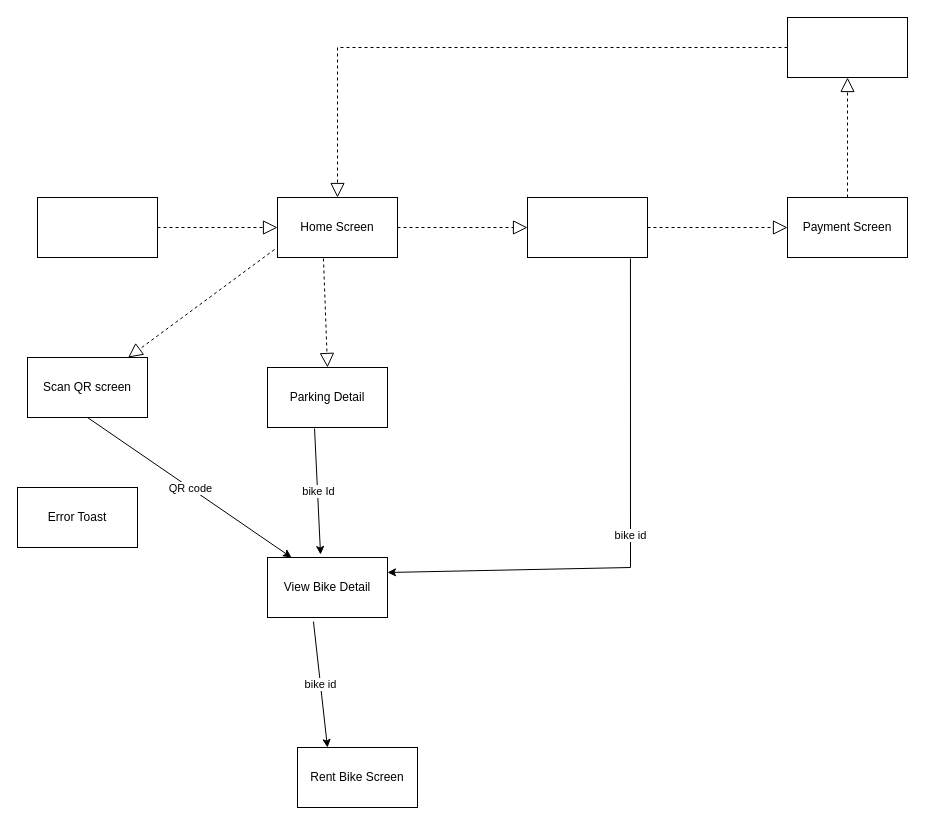
This 925x825 diagram has some shape labels left out. Here are the shapes that lost their labels. From the top down, the centre of each, then its label:
point 847,47: Success Screen
point 97,227: Splash Screen
point 587,227: Return Bike Screen
